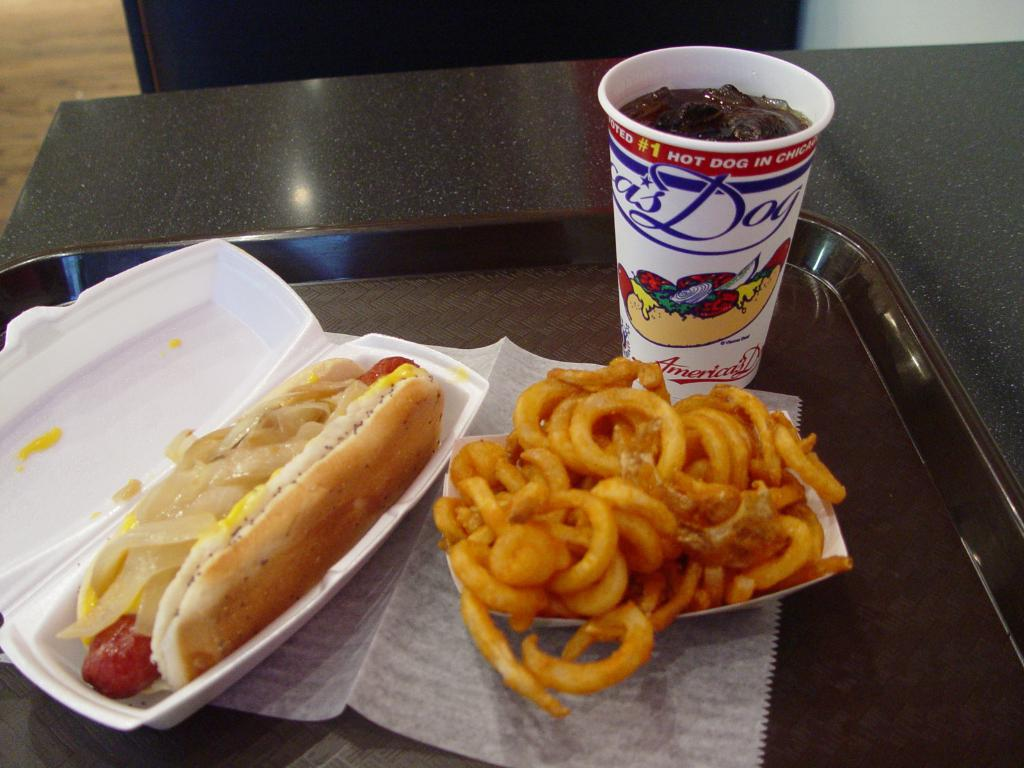French fries: (430, 380, 831, 710)
